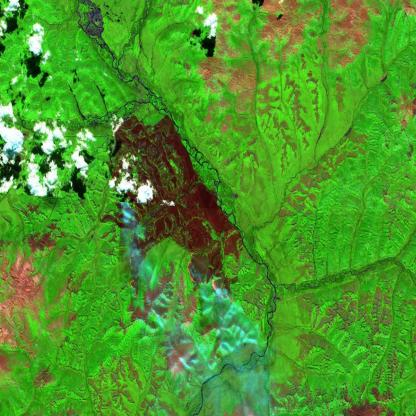fire: (128, 244, 238, 307)
